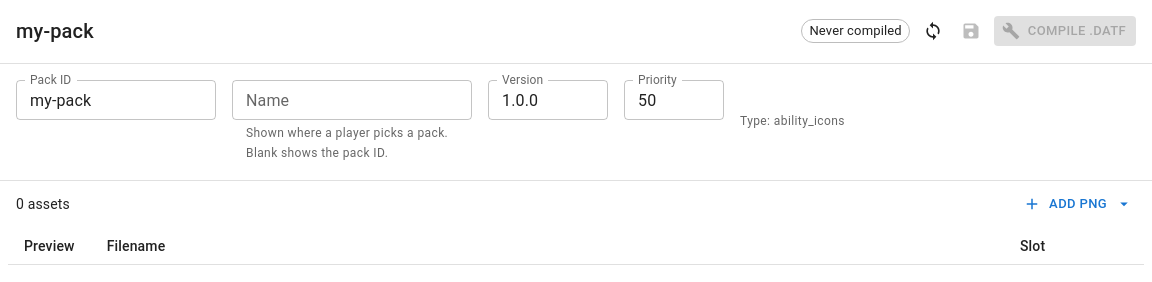
Scenario: PackEditor — field edits and dirty state › parses Priority as int and falls back to 100 when blank
This screenshot has width=1152, height=282.
Step 1. Clear the number field labelled "Priority" → (674, 100), box [624, 80, 724, 120]
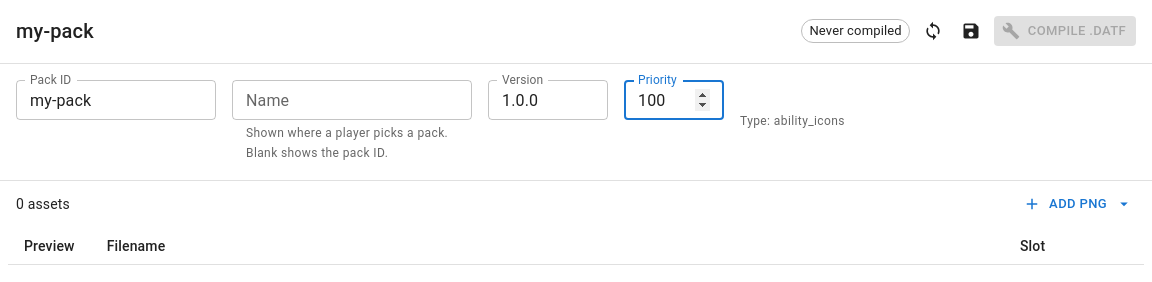
Expected: the number field labelled "Priority" holds "100", [624, 80, 724, 120]
